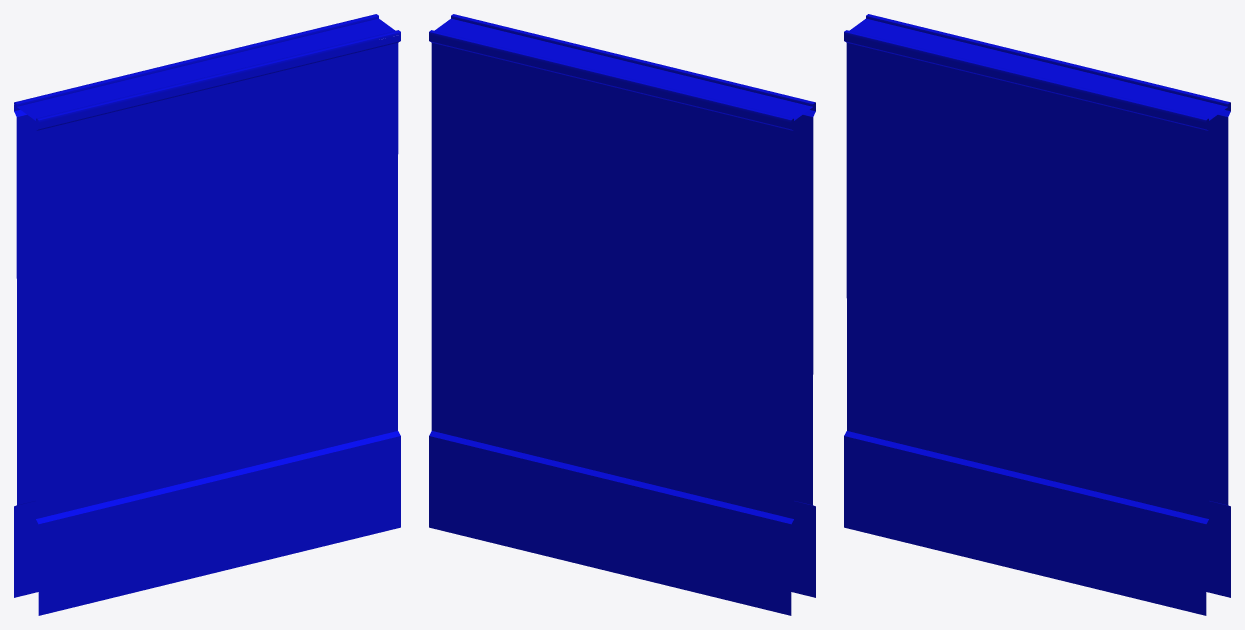
The model's file is Wall_Mini.FBX.
The picture shows the model from 3 angles, left to right: view 1: azimuth 30°, elevation 25°; view 2: azimuth 150°, elevation 25°; view 3: azimuth 330°, elevation 25°; orthographic projection.
Parts seen in each view (by area): view 1: Wall_Mini; view 2: Wall_Mini; view 3: Wall_Mini.
Part boxes in pixels (left/top/right/bottom): Wall_Mini: left=14, top=14, right=400, bottom=615; Wall_Mini: left=429, top=14, right=815, bottom=615; Wall_Mini: left=844, top=14, right=1230, bottom=615.
Size of the model in its own units: 98.44 by 129 by 11.6.
